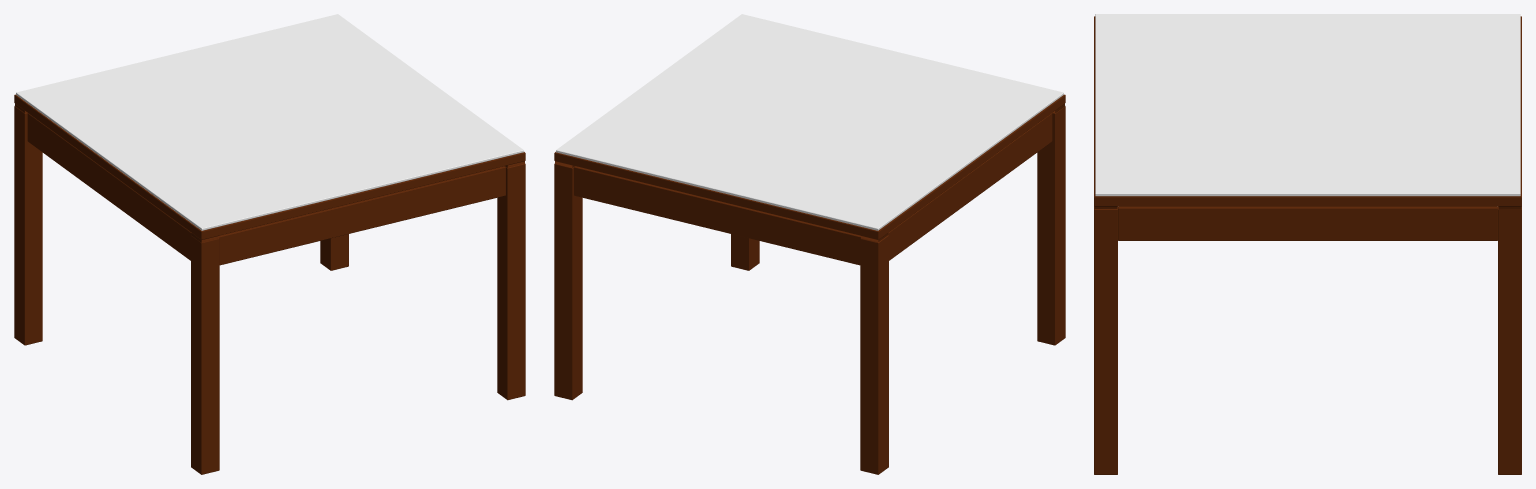
The model's file is attach-demo-table.obj.
3 renders of one model, left to right at view 1: azimuth 30°, elevation 25°; view 2: azimuth 150°, elevation 25°; view 3: azimuth 270°, elevation 25°, orthographic. The views are drawn at different scales.
Visible parts, largest first — view 1: 3DSMesh_8_6, 3DSMesh_6_6; view 2: 3DSMesh_8_6, 3DSMesh_6_6; view 3: 3DSMesh_8_6, 3DSMesh_6_6.
Part boxes in pixels (left/top/right/bottom): 3DSMesh_8_6: left=16, top=14, right=523, bottom=230; 3DSMesh_6_6: left=14, top=94, right=525, bottom=474; 3DSMesh_8_6: left=556, top=14, right=1063, bottom=230; 3DSMesh_6_6: left=554, top=94, right=1065, bottom=474; 3DSMesh_8_6: left=1095, top=14, right=1520, bottom=196; 3DSMesh_6_6: left=1094, top=16, right=1521, bottom=474.
Bounding box in the file's own units: 2.56 × 1.86 × 2.56.
